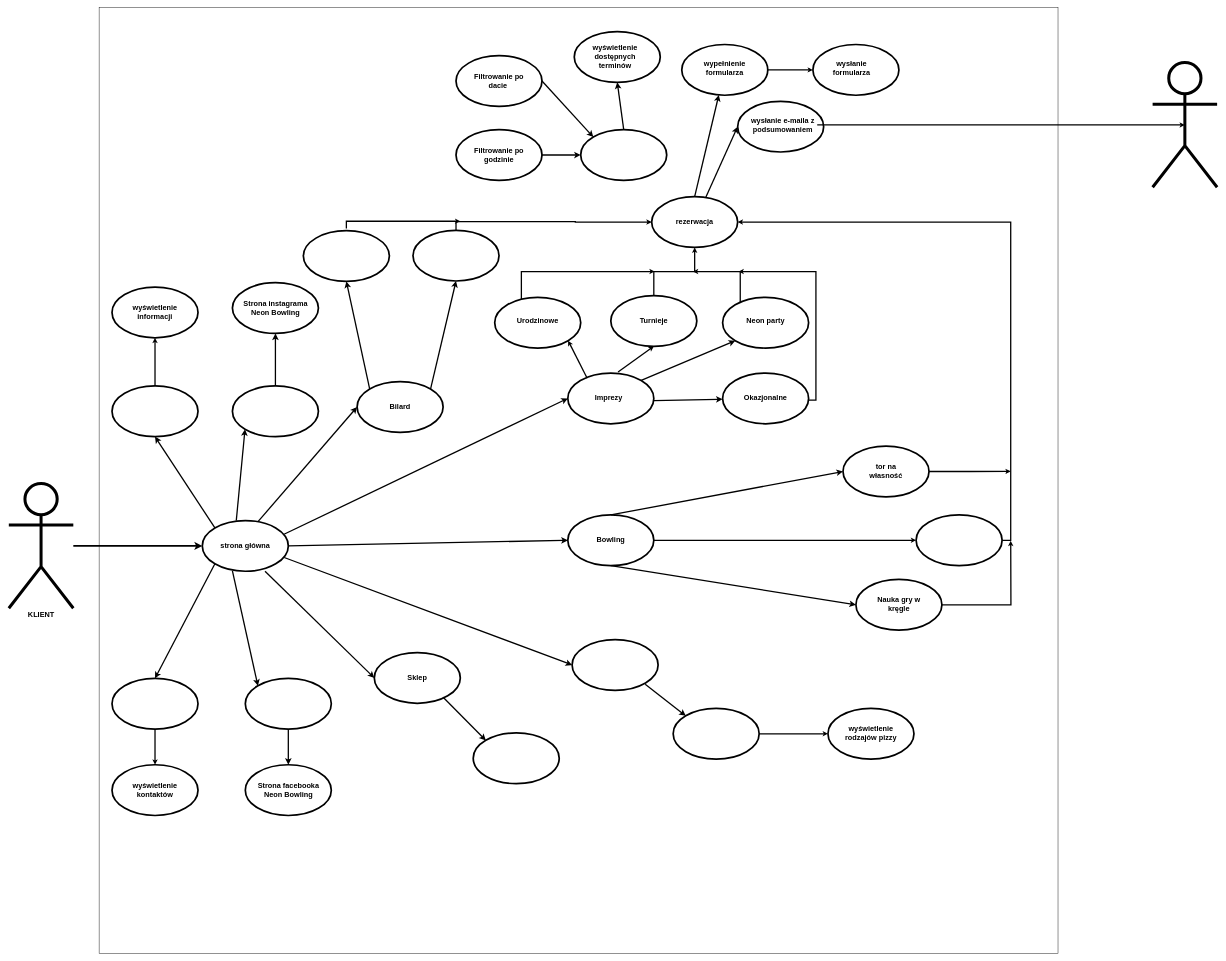
The diagram is 1226 pixels wide and 961 high, and some of its shapes have lost their labels. Each missing label, with the centre of its shape:
Facebook: pixel 288 703
Instagram: pixel 275 411
Kontakt: pixel 155 703
Liga bowlingowa: pixel 959 540
menu: pixel 716 733
Nauka gry: pixel 346 256
O nas: pixel 155 411
Pizza: pixel 615 665
skrzynka e-mail: pixel 1184 125
wybranie terminu: pixel 623 155
Wynajmnij: pixel 456 255
wyświetlenie produktów: pixel 516 758
